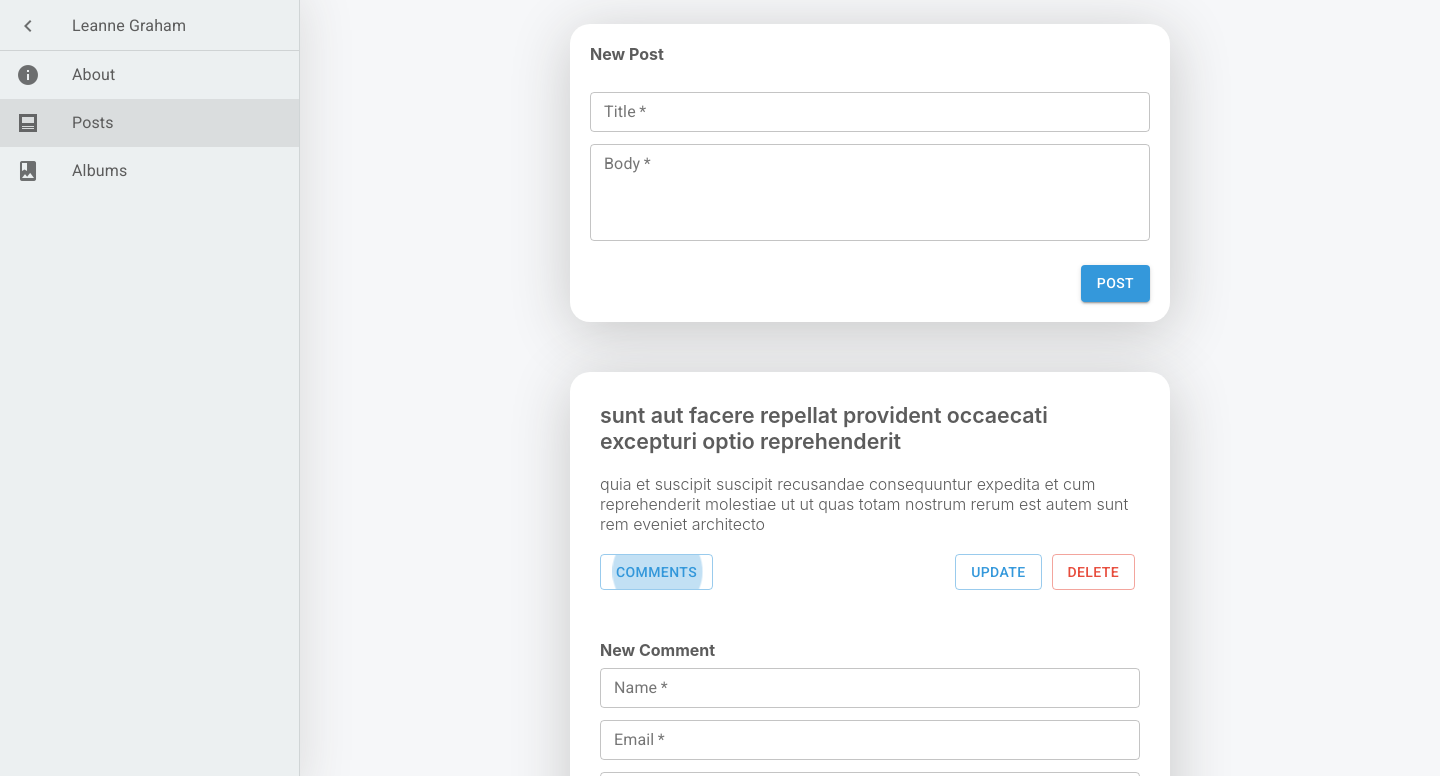
Test case: Comments › Add a new comment on post with id 1
Type "New comment name" into the field next to "Name" at (870, 688), box [600, 668, 1140, 708]
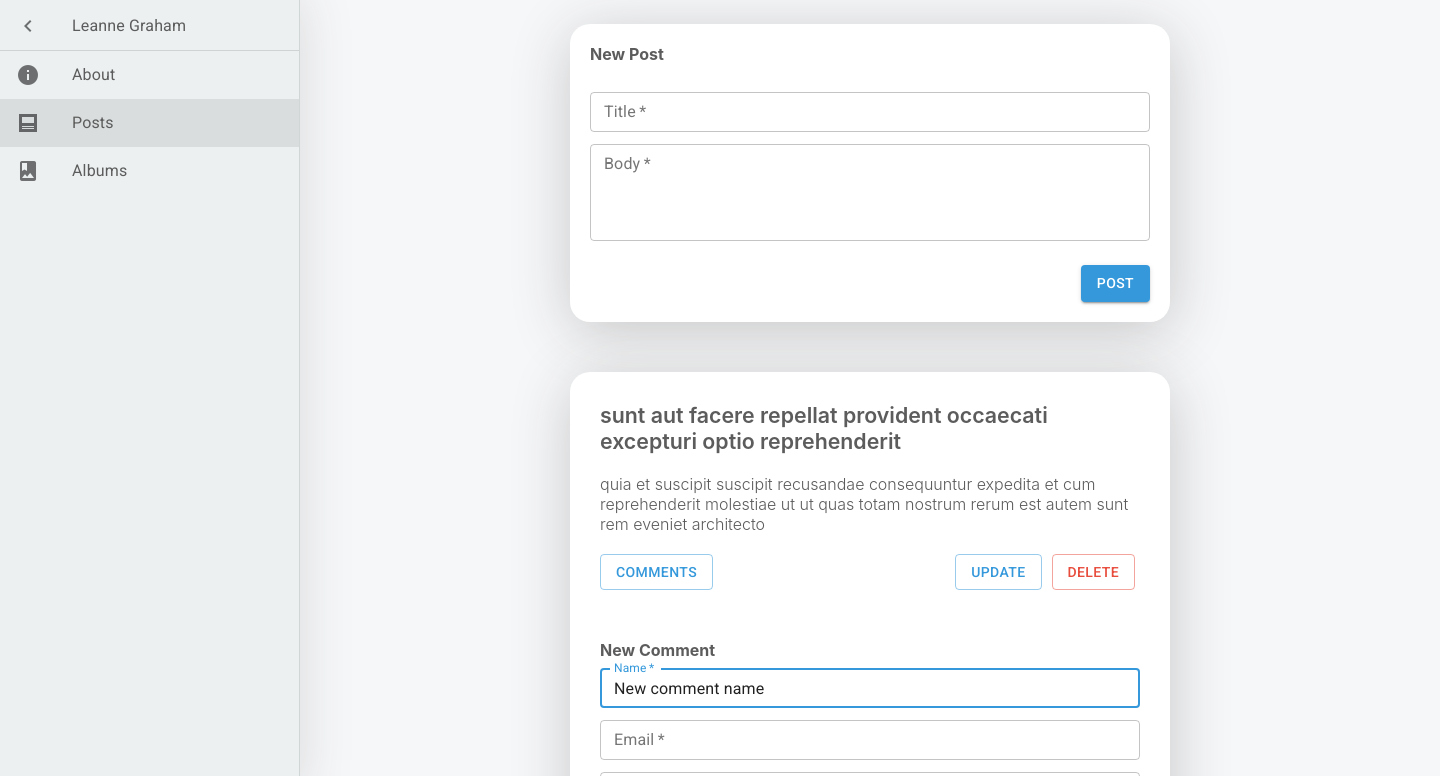
Type "newcomment@email.com" into the field next to "Email" at (870, 740), box [600, 720, 1140, 760]
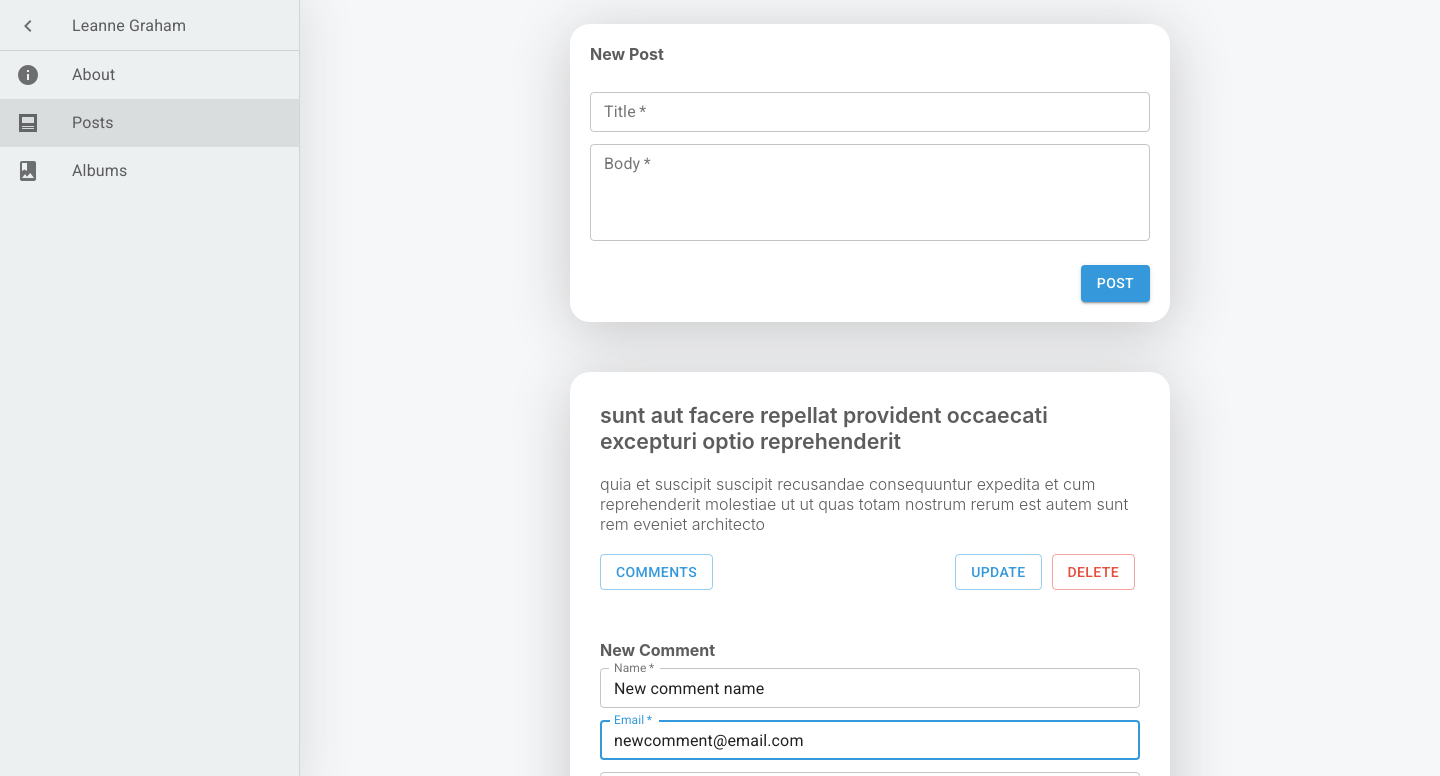
Scroll
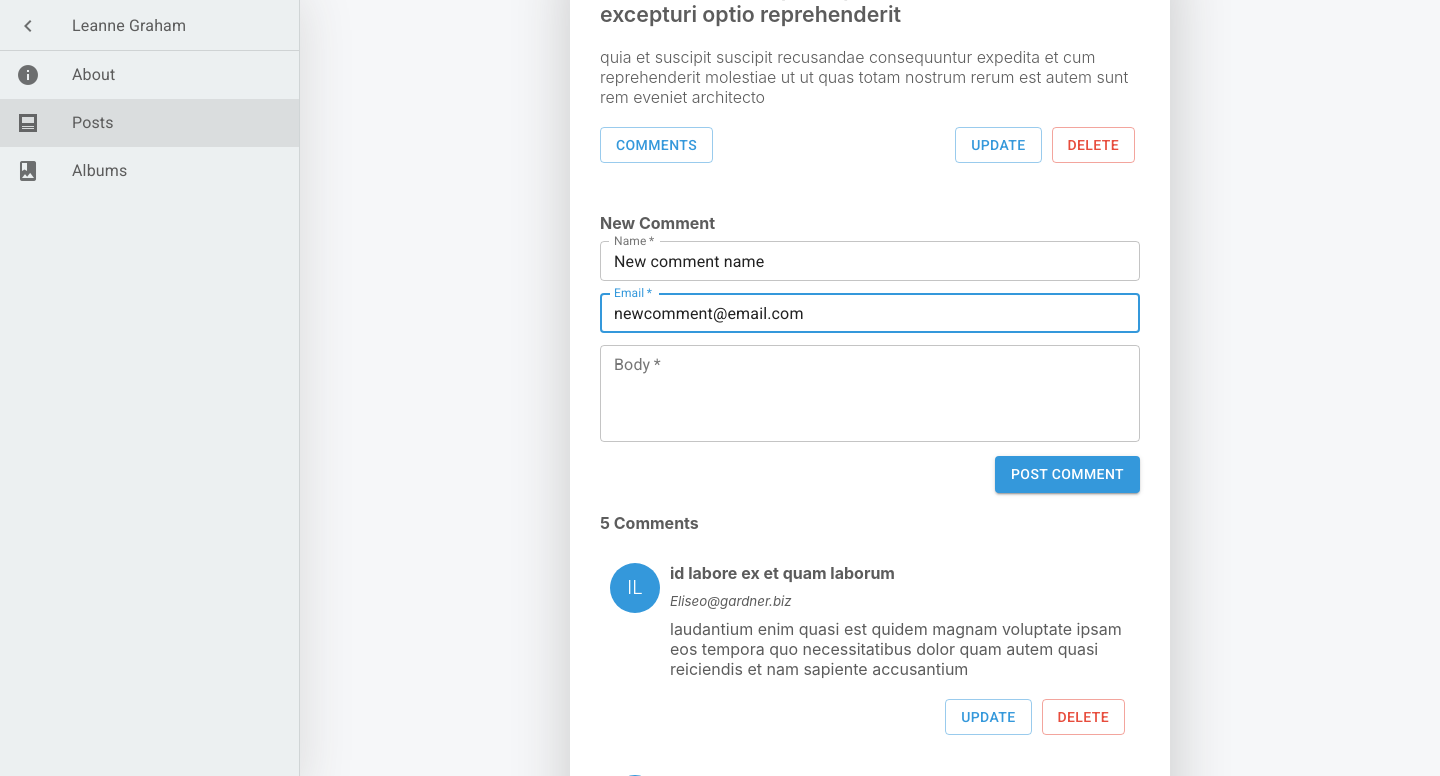
Type "New comment body" into the text box at (870, 394), box [614, 356, 1126, 432]
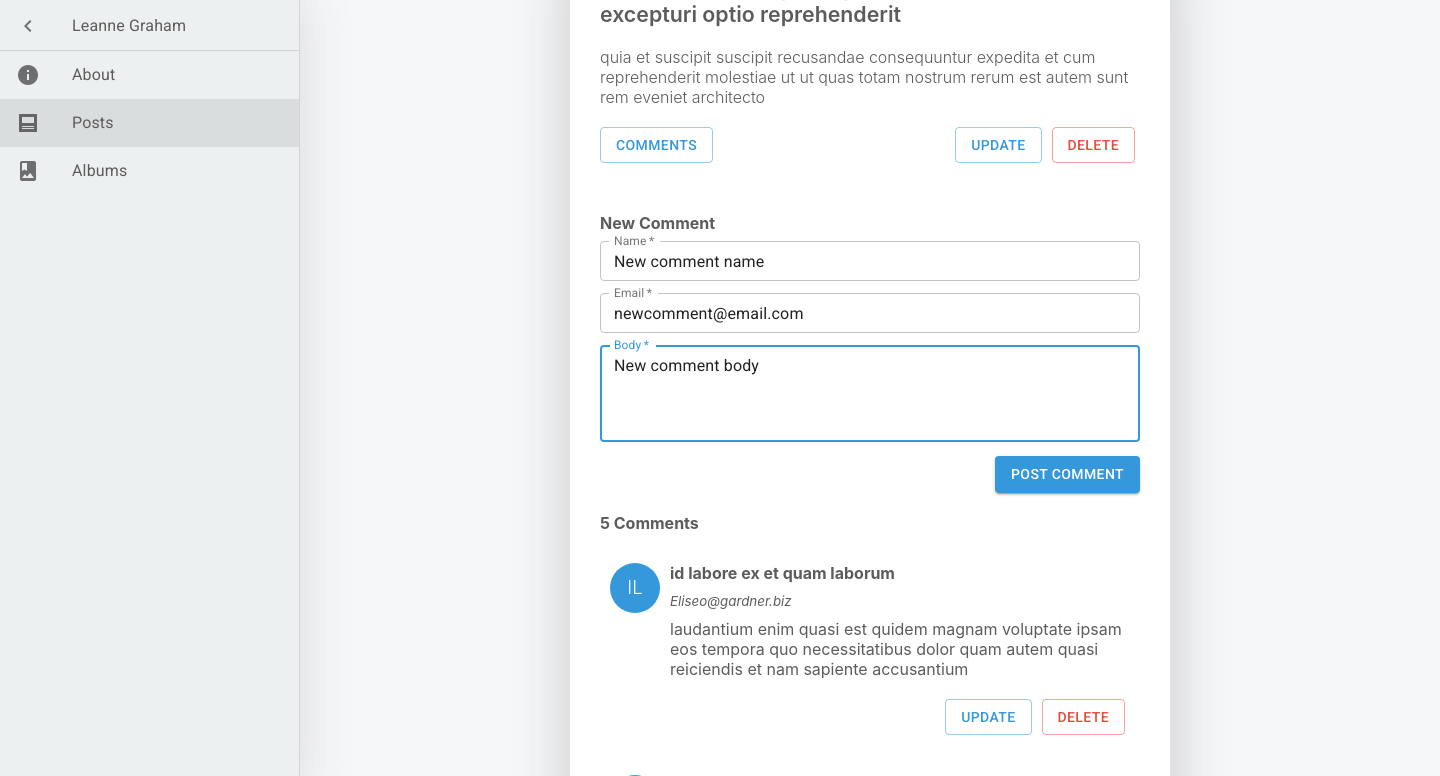
Click the button with test id "new-comment-button" at (1068, 475), box [995, 456, 1140, 493]
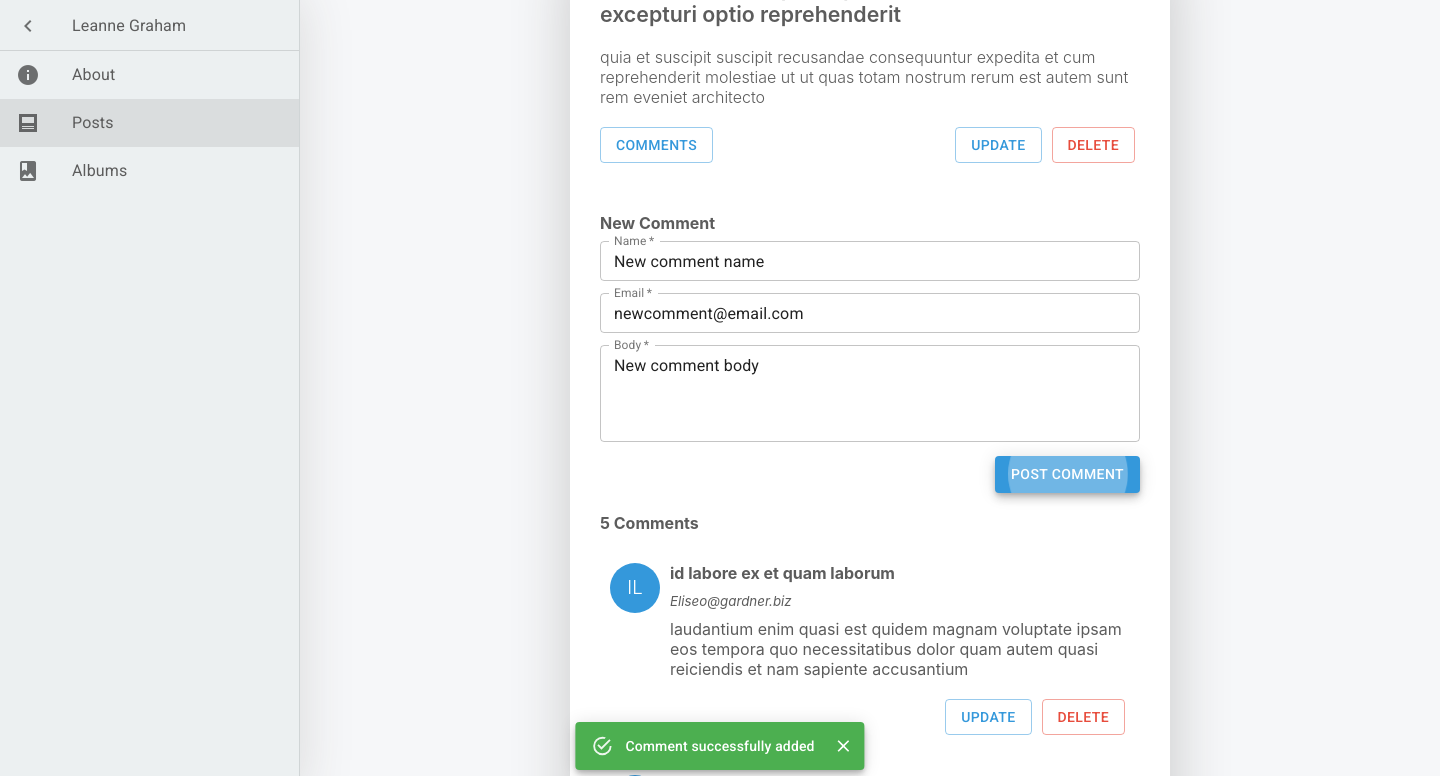
Expected: the text "Comment successfully added" is shown, [625, 738, 815, 754]
